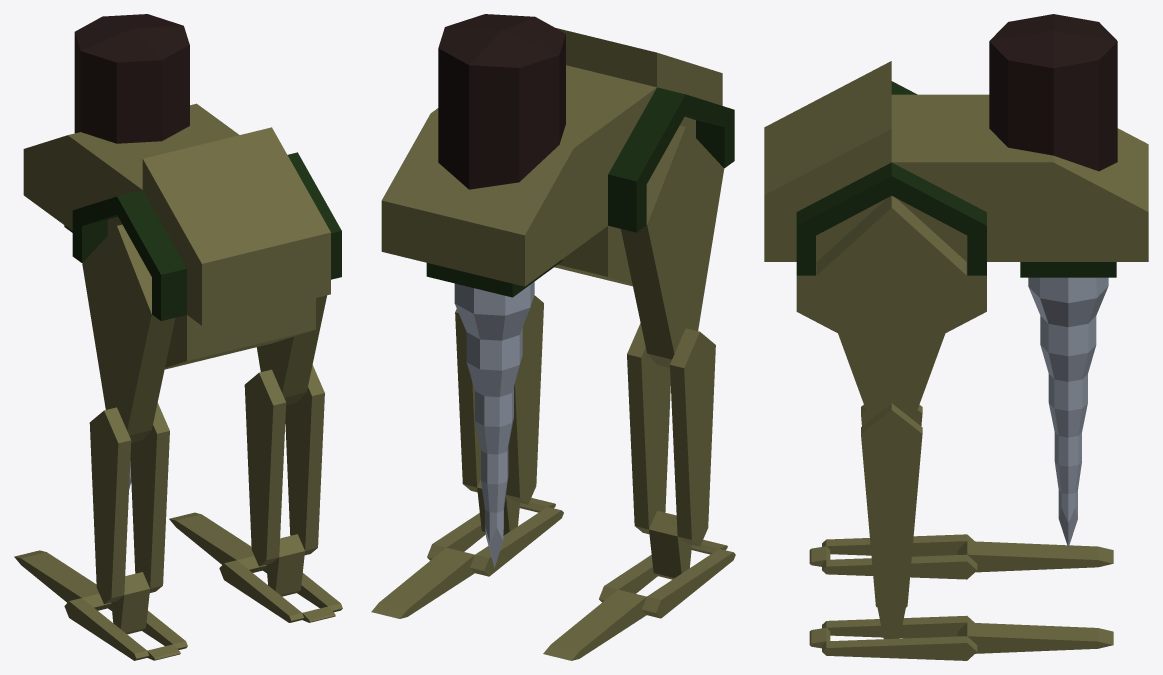
Rendered from Earth_Drill_Revamp.fbx.
3 views of the same model, side by side, from view 1: azimuth 30°, elevation 25°; view 2: azimuth 150°, elevation 25°; view 3: azimuth 270°, elevation 25° (orthographic). The views are drawn at different scales.
Parts seen in each view (by area): view 1: Body, Tank, Right_Upper_Leg, Right_Lower_Leg, Left_Lower_Leg, Left_Upper_Leg, Right_Foot, Left_Foot, Right_Heel, Left_Heel, Left_Ankle, Right_Ankle; view 2: Body, Tank, Right_Upper_Leg, Right_Lower_Leg, Left_Lower_Leg, Right_Foot, Drill_1, Right_Heel, Left_Heel, Left_Foot, Drill_2, Right_Ankle (+4 smaller); view 3: Body, Left_Upper_Leg, Tank, Left_Lower_Leg, Left_Foot, Right_Foot, Left_Heel, Right_Heel, Drill_1, Drill_2, Drill_3, Drill_4 (+2 smaller).
Part boxes in pixels (left/top/right/bottom): Body: left=23, top=103, right=341, bottom=369; Tank: left=74, top=14, right=189, bottom=143; Right_Upper_Leg: left=82, top=224, right=175, bottom=442; Right_Lower_Leg: left=89, top=403, right=169, bottom=604; Left_Lower_Leg: left=244, top=365, right=324, bottom=566; Left_Upper_Leg: left=257, top=295, right=326, bottom=405; Right_Foot: left=64, top=598, right=187, bottom=660; Left_Foot: left=219, top=560, right=342, bottom=622; Right_Heel: left=14, top=550, right=111, bottom=610; Left_Heel: left=169, top=512, right=266, bottom=572; Left_Ankle: left=266, top=534, right=304, bottom=596; Right_Ankle: left=111, top=572, right=149, bottom=634; Body: left=381, top=28, right=734, bottom=297; Tank: left=438, top=14, right=565, bottom=189; Right_Upper_Leg: left=621, top=125, right=724, bottom=367; Right_Lower_Leg: left=627, top=323, right=715, bottom=546; Left_Lower_Leg: left=455, top=295, right=543, bottom=504; Right_Foot: left=599, top=549, right=735, bottom=618; Drill_1: left=454, top=282, right=534, bottom=340; Right_Heel: left=543, top=589, right=646, bottom=660; Left_Heel: left=371, top=547, right=474, bottom=618; Left_Foot: left=427, top=507, right=563, bottom=576; Drill_2: left=466, top=328, right=522, bottom=396; Right_Ankle: left=649, top=510, right=691, bottom=579; Body: left=764, top=61, right=1148, bottom=332; Left_Upper_Leg: left=816, top=195, right=966, bottom=419; Tank: left=989, top=14, right=1117, bottom=171; Left_Lower_Leg: left=861, top=403, right=922, bottom=618; Left_Foot: left=822, top=615, right=977, bottom=660; Right_Foot: left=822, top=534, right=977, bottom=579; Left_Heel: left=957, top=622, right=1113, bottom=653; Right_Heel: left=957, top=541, right=1113, bottom=572; Drill_1: left=1028, top=277, right=1108, bottom=327; Drill_2: left=1040, top=316, right=1096, bottom=381; Drill_3: left=1048, top=374, right=1087, bottom=437; Drill_4: left=1054, top=432, right=1081, bottom=493.
Size of the model in its own units: 1.17 by 2.88 by 1.74.
